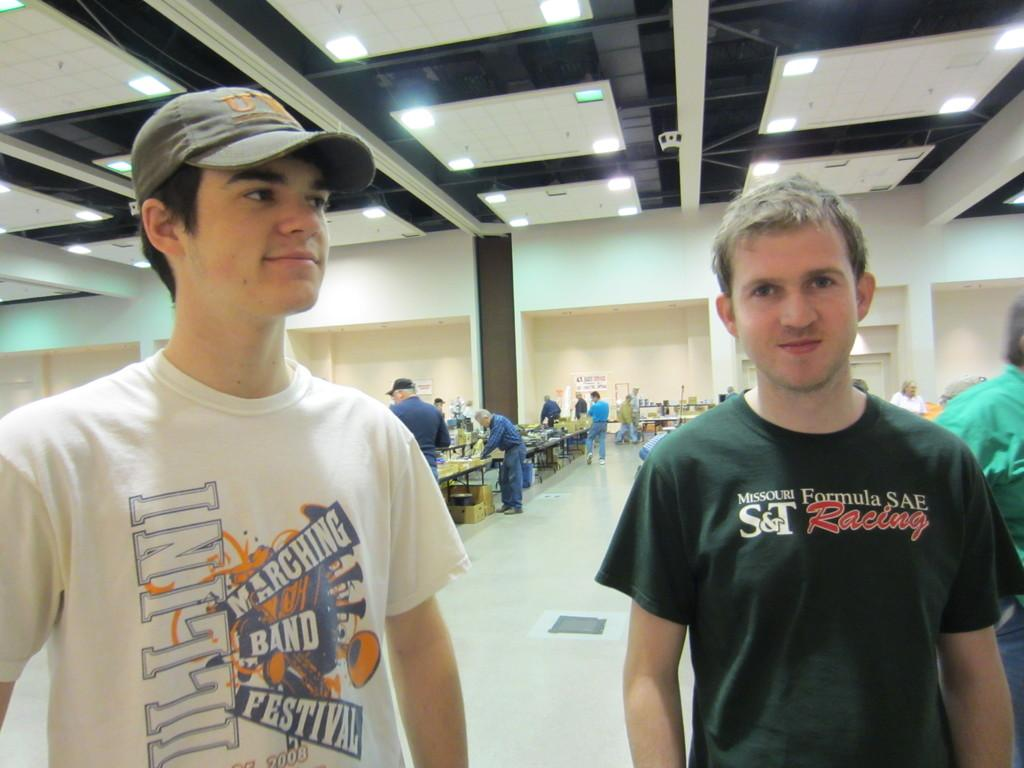Hat: (132, 82, 372, 208), (385, 373, 413, 395)
